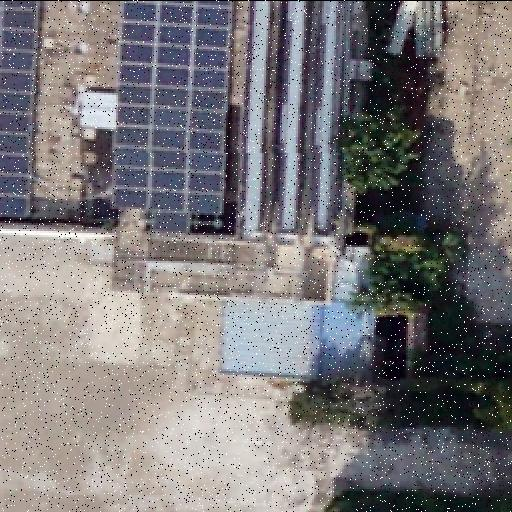solar-panel: (100, 0, 240, 216), (0, 0, 45, 219)
